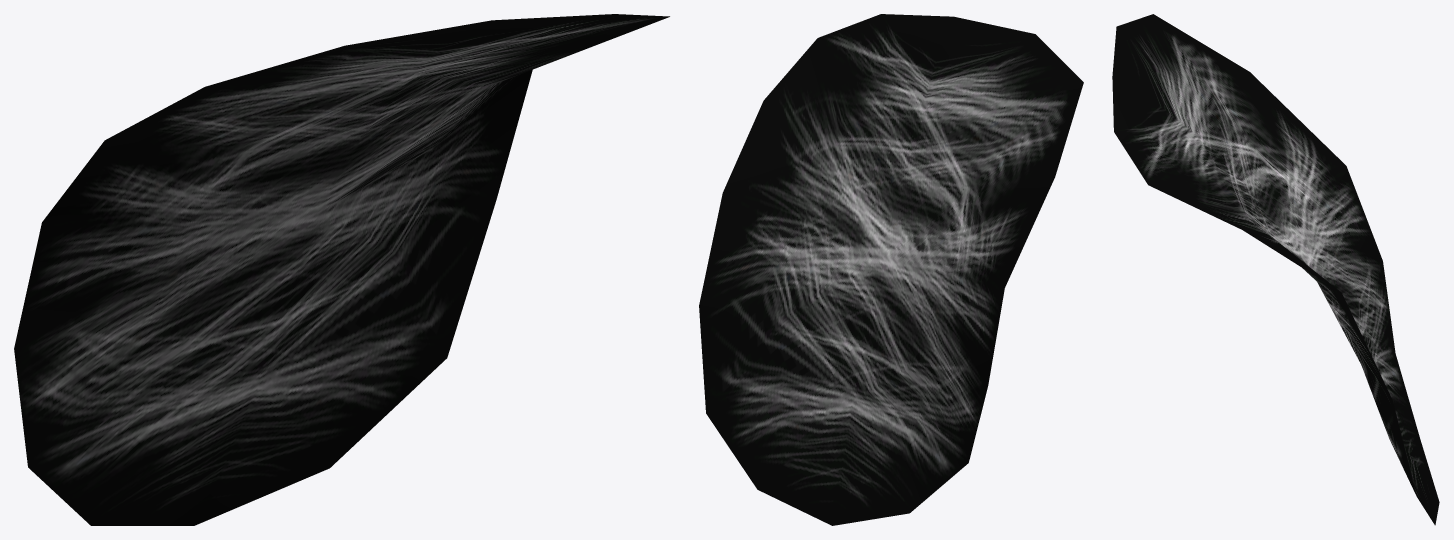
File: SWORDLIGHT20_PS-AREA01_CORNERWEB26.fbx
3 views of the same model, side by side, from view 1: azimuth 30°, elevation 25°; view 2: azimuth 150°, elevation 25°; view 3: azimuth 270°, elevation 25° (orthographic). The views are drawn at different scales.
Visible parts, largest first — view 1: SWORDLIGHT20_PS-AREA01_CORNERWEB26; view 2: SWORDLIGHT20_PS-AREA01_CORNERWEB26; view 3: SWORDLIGHT20_PS-AREA01_CORNERWEB26.
Part boxes in pixels (left/top/right/bottom): SWORDLIGHT20_PS-AREA01_CORNERWEB26: left=14, top=14, right=669, bottom=525; SWORDLIGHT20_PS-AREA01_CORNERWEB26: left=699, top=14, right=1083, bottom=525; SWORDLIGHT20_PS-AREA01_CORNERWEB26: left=1112, top=14, right=1439, bottom=525.
Bounding box in the file's own units: 70894 × 91737 × 61243.
1 material, 1 textured.
